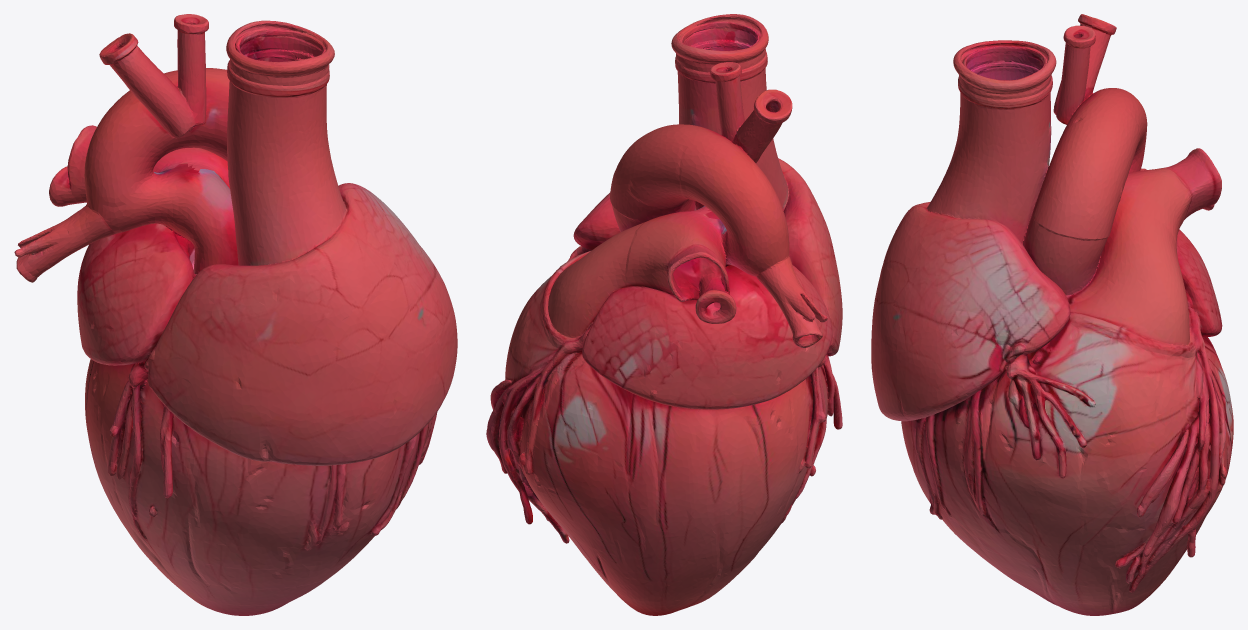
Rendered from heart.glb.
The picture shows the model from 3 angles, left to right: view 1: azimuth 30°, elevation 25°; view 2: azimuth 150°, elevation 25°; view 3: azimuth 270°, elevation 25°; orthographic projection. The views are drawn at different scales.
Visible parts, largest first — view 1: tripo_node_1d72d82d-3849-499f-9855-17974a694516; view 2: tripo_node_1d72d82d-3849-499f-9855-17974a694516; view 3: tripo_node_1d72d82d-3849-499f-9855-17974a694516.
Boxes of the visible parts, <box> form: tripo_node_1d72d82d-3849-499f-9855-17974a694516: <box>14,14,457,615</box>; tripo_node_1d72d82d-3849-499f-9855-17974a694516: <box>486,14,842,615</box>; tripo_node_1d72d82d-3849-499f-9855-17974a694516: <box>871,14,1233,615</box>.
Size of the model in its own units: 0.6319 by 1 by 0.594.
1 material, 1 textured.
